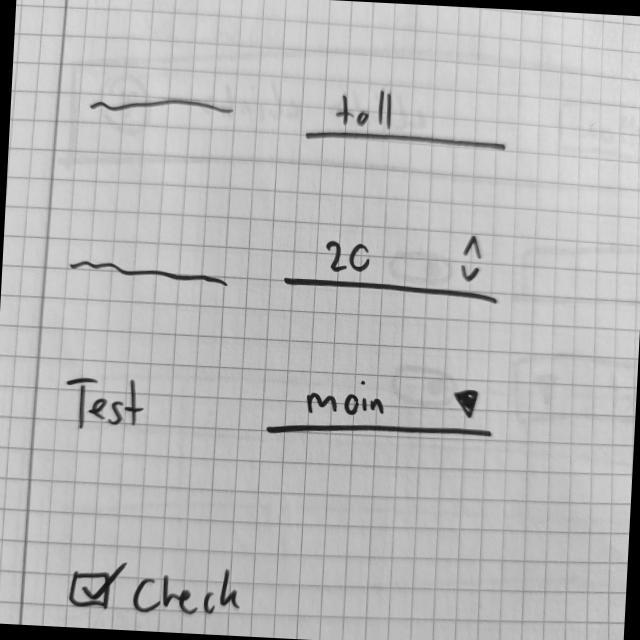checkbox: (66, 556, 248, 622)
input: (302, 85, 512, 152)
label: (60, 369, 148, 442)
number-input: (284, 220, 506, 308)
select: (263, 366, 498, 448)
text: (65, 255, 232, 291), (88, 90, 235, 124)
